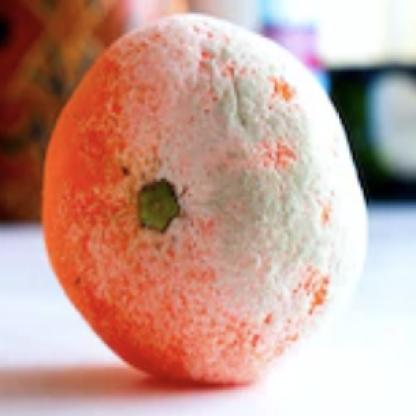rotten: (45, 16, 367, 389)
